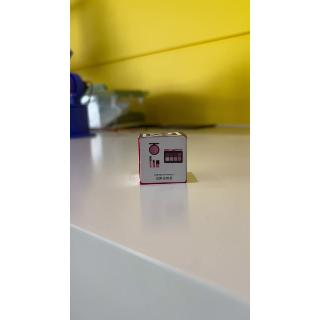Expired_Cosmetic: (141, 139, 189, 183)
